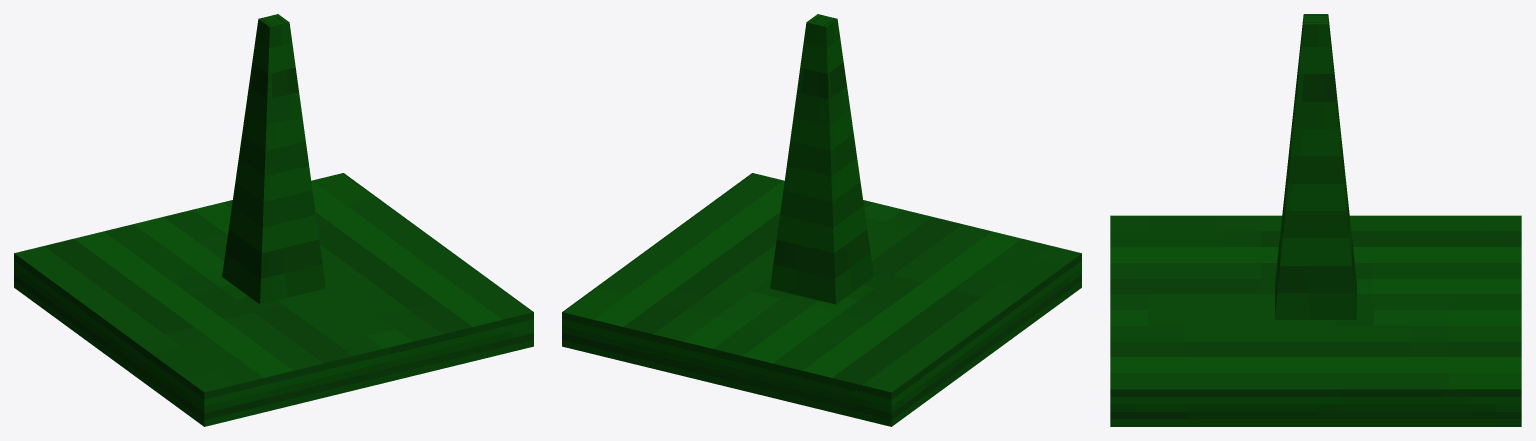
The model's file is sprinkler.obj.
3 views of the same model, side by side, from view 1: azimuth 30°, elevation 25°; view 2: azimuth 150°, elevation 25°; view 3: azimuth 270°, elevation 25° (orthographic). The views are drawn at different scales.
Parts seen in each view (by area): view 1: Cube_Cube.002; view 2: Cube_Cube.002; view 3: Cube_Cube.002.
Part boxes in pixels (x1,y1,x2,y2): Cube_Cube.002: (14,14,533,426); Cube_Cube.002: (562,14,1081,426); Cube_Cube.002: (1110,14,1521,426).
Size of the model in its own units: 1 by 0.86 by 1.
